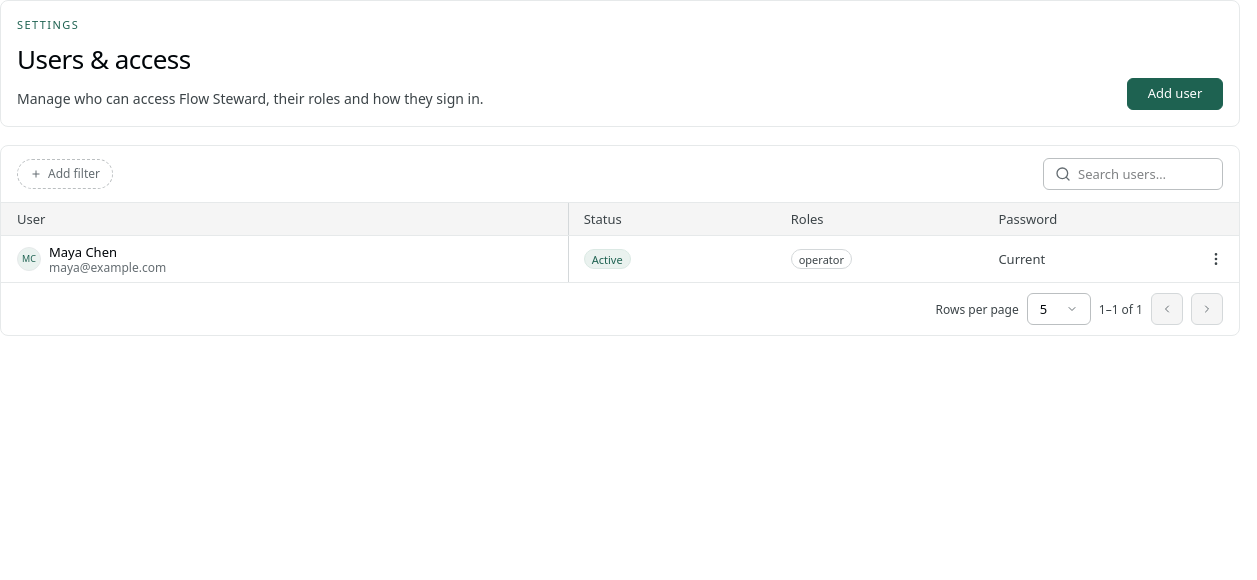
SettingsUsersPage › retains accurate failure feedback when unlock rejects
Click the button named "Actions for Maya Chen" at (1216, 259), box [1200,243,1232,275]
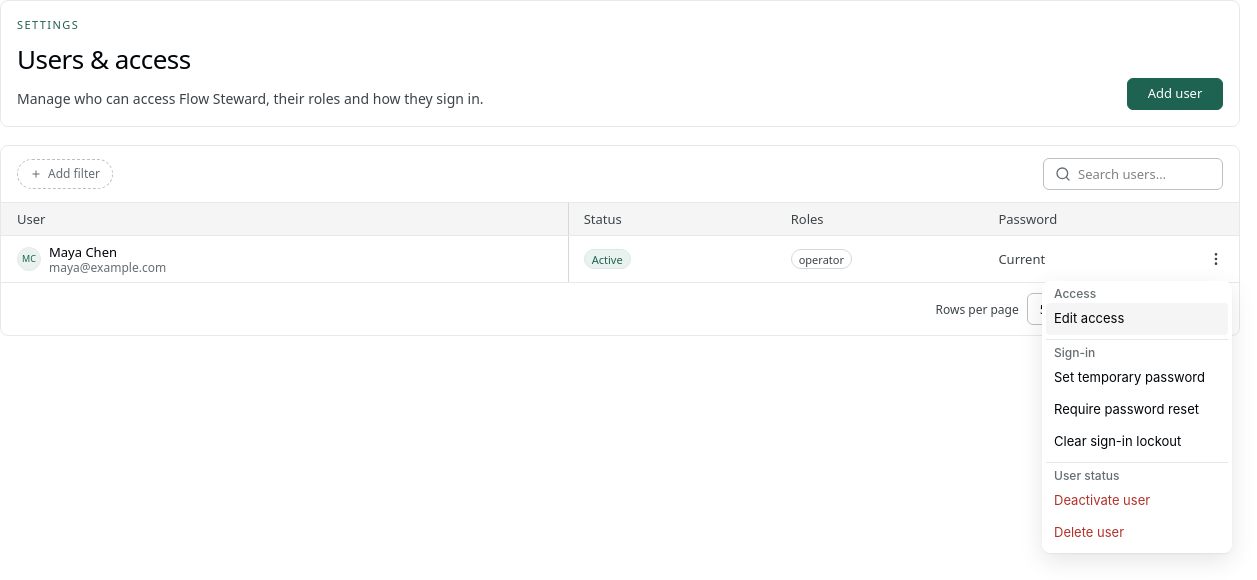
Click the menu item "Clear sign-in lockout" at (1137, 442), box [1046,426,1228,458]
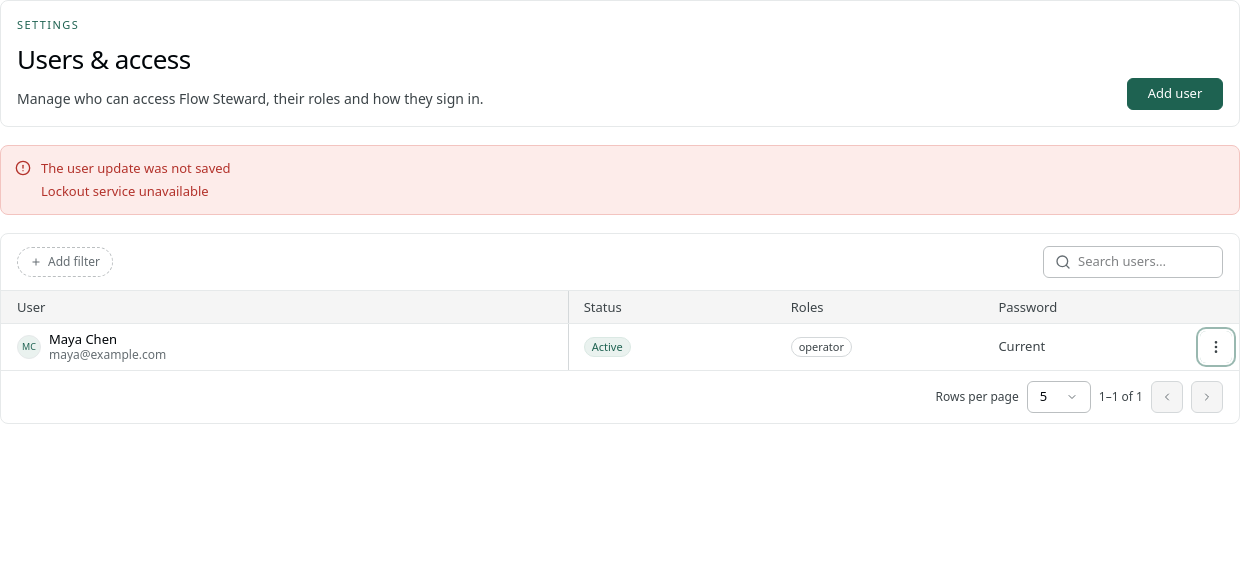
Expected: the text "Lockout service unavailable" is shown, [41,182,209,200]
